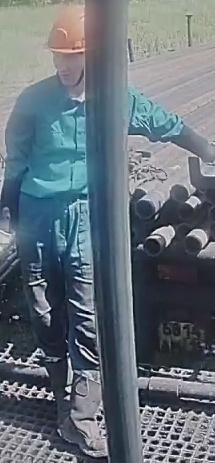gloves: (0, 219, 18, 261), (199, 134, 215, 168)
helmet: (43, 3, 86, 54)
vest: (0, 76, 87, 221)
